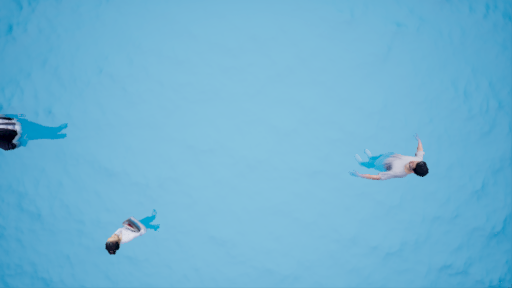person: (341, 131, 432, 181), (99, 209, 166, 258), (1, 111, 70, 152)
